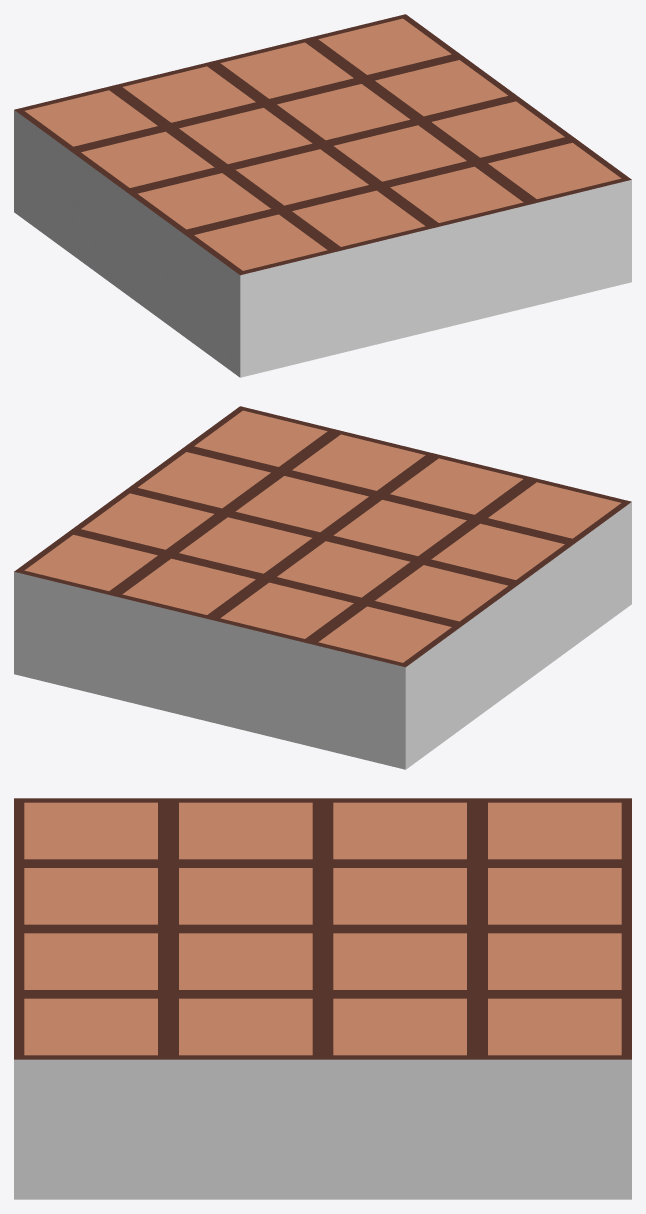
Rendered from Prop_GroundBase_02.fbx.
The picture shows the model from 3 angles, top to bottom: view 1: azimuth 30°, elevation 25°; view 2: azimuth 150°, elevation 25°; view 3: azimuth 270°, elevation 25°; orthographic projection. The views are drawn at different scales.
Parts seen in each view (by area): view 1: Prop_GroundBase_02; view 2: Prop_GroundBase_02; view 3: Prop_GroundBase_02.
Part boxes in pixels (x1,y1,x2,y2): Prop_GroundBase_02: [14, 14, 631, 377]; Prop_GroundBase_02: [14, 406, 631, 769]; Prop_GroundBase_02: [14, 798, 631, 1199].
Size of the model in its own units: 200 by 50 by 200.
